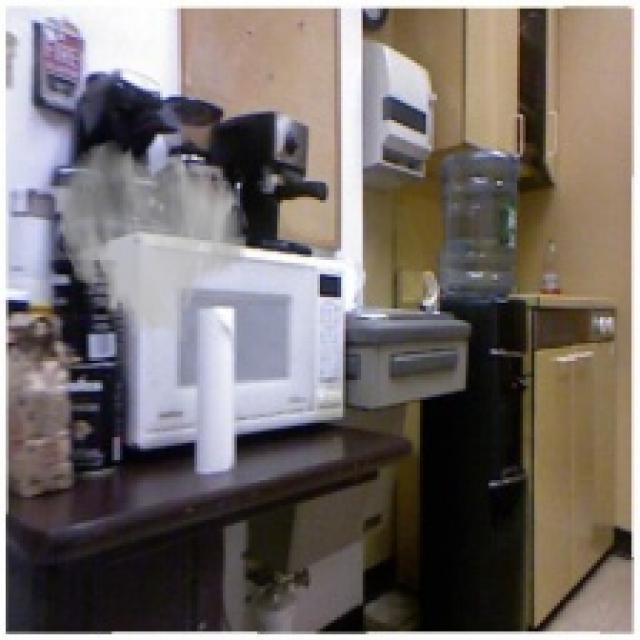smoke: (52, 137, 252, 346)
